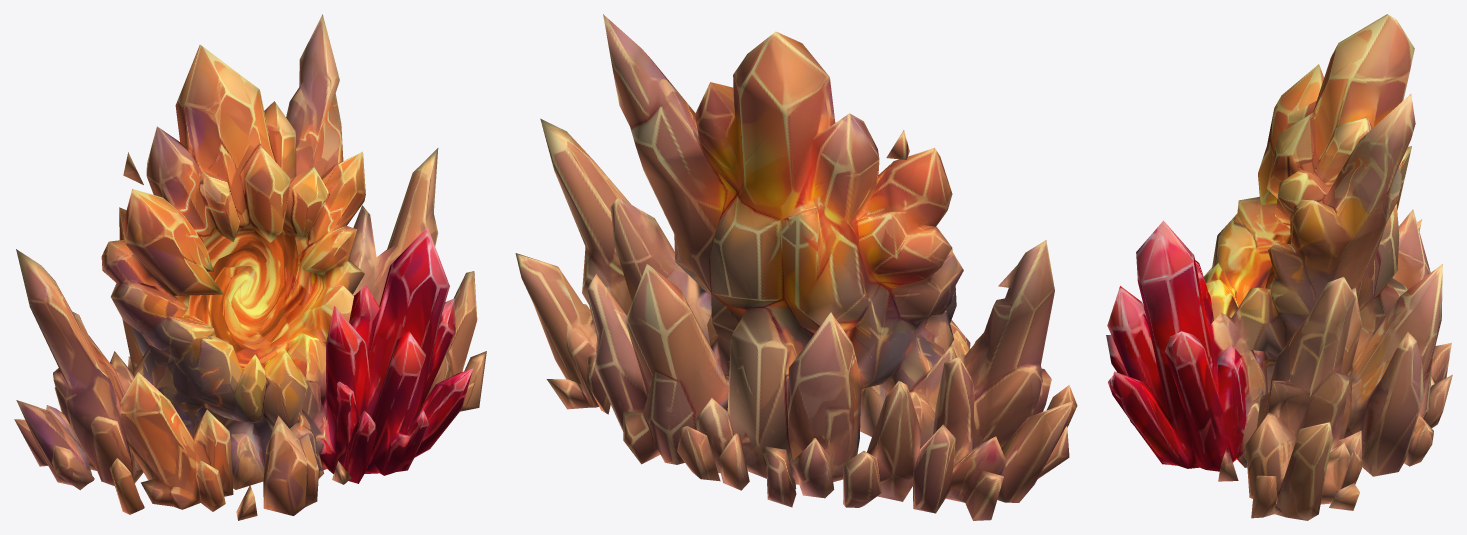
File: ManaRift.fbx
The picture shows the model from 3 angles, left to right: view 1: azimuth 30°, elevation 25°; view 2: azimuth 150°, elevation 25°; view 3: azimuth 270°, elevation 25°; orthographic projection. The views are drawn at different scales.
Visible parts, largest first — view 1: Mesh_0; view 2: Mesh_0; view 3: Mesh_0.
Part boxes in pixels (x1,y1,x2,y2): Mesh_0: [14, 14, 486, 520]; Mesh_0: [515, 14, 1077, 520]; Mesh_0: [1106, 14, 1452, 520].
Size of the model in its own units: 192 by 150 by 117.
Materials: 1 (1 with a texture image).
